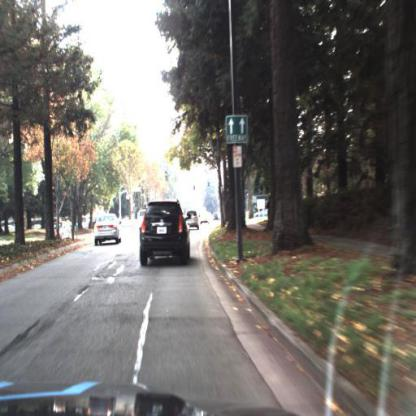car: (139, 197, 192, 267), (94, 212, 123, 243), (47, 218, 74, 245), (134, 207, 152, 246), (49, 218, 73, 241), (186, 209, 200, 231), (255, 208, 273, 224)
